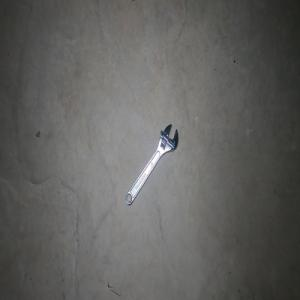Wrench: (125, 124, 178, 205)
